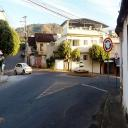NoEstacionar: (114, 52, 119, 60)
Rotatoria: (103, 37, 113, 53)
